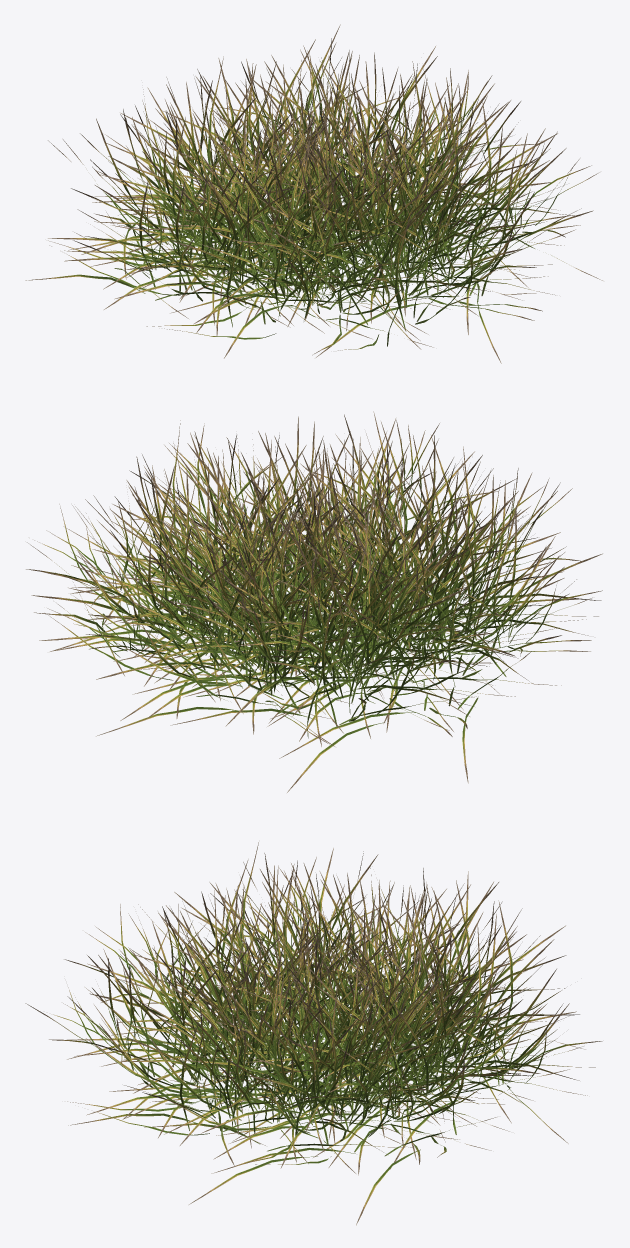
File: grass1.glb
3 views of the same model, one above another, from view 1: azimuth 30°, elevation 25°; view 2: azimuth 150°, elevation 25°; view 3: azimuth 270°, elevation 25° (orthographic). The views are drawn at different scales.
Parts seen in each view (by area): view 1: Object_2; view 2: Object_2; view 3: Object_2.
Part boxes in pixels (left/top/right/bottom): Object_2: left=25, top=24, right=602, bottom=363; Object_2: left=26, top=411, right=602, bottom=792; Object_2: left=25, top=842, right=602, bottom=1225.
Bounding box in the file's own units: 4.25 × 1.51 × 4.25.
1 material, 1 textured.
